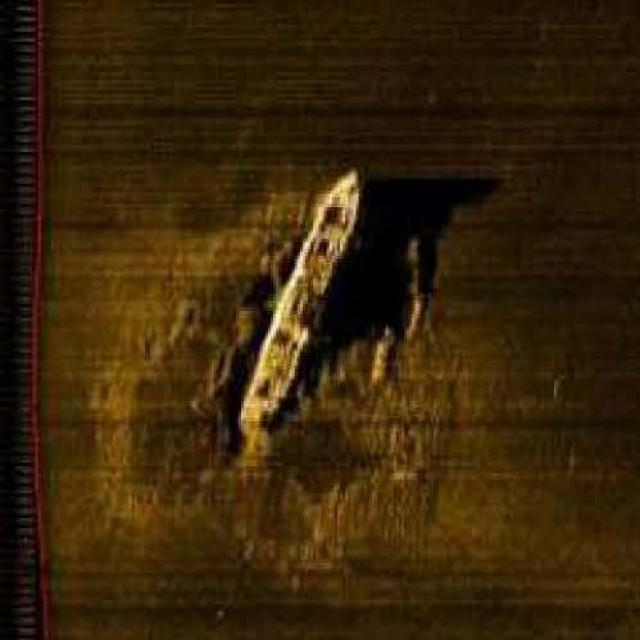ship: (238, 167, 364, 443)
